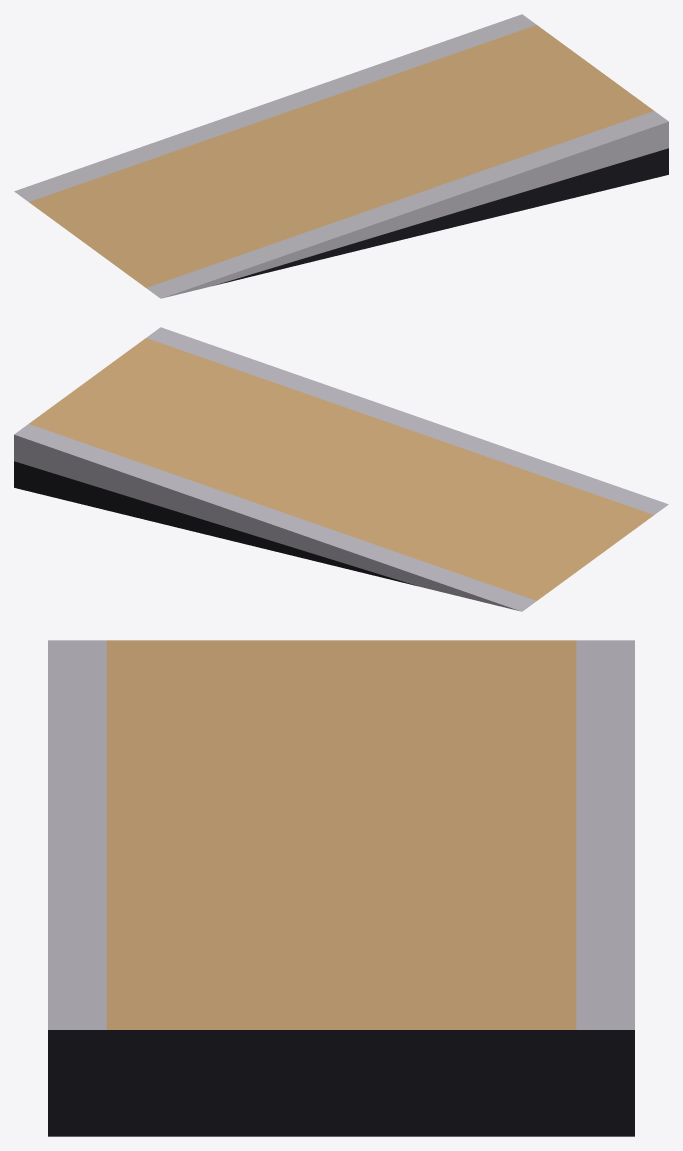
File: Ramp_Half_1_Both.fbx
3 views of the same model, one above another, from view 1: azimuth 30°, elevation 25°; view 2: azimuth 150°, elevation 25°; view 3: azimuth 270°, elevation 25° (orthographic). The views are drawn at different scales.
Parts seen in each view (by area): view 1: Ramp_Half_1_Both; view 2: Ramp_Half_1_Both; view 3: Ramp_Half_1_Both.
Part boxes in pixels (x1,y1,x2,y2): Ramp_Half_1_Both: (14, 14, 668, 298); Ramp_Half_1_Both: (14, 327, 668, 611); Ramp_Half_1_Both: (48, 640, 634, 1136).
Bounding box in the file's own units: 10 × 1 × 5.
